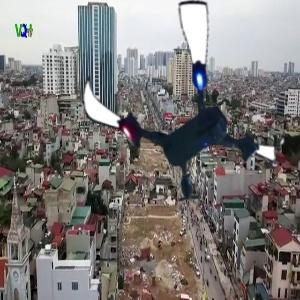drone: (72, 2, 286, 216)
